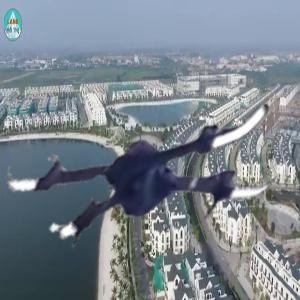drone: (12, 19, 278, 285)
